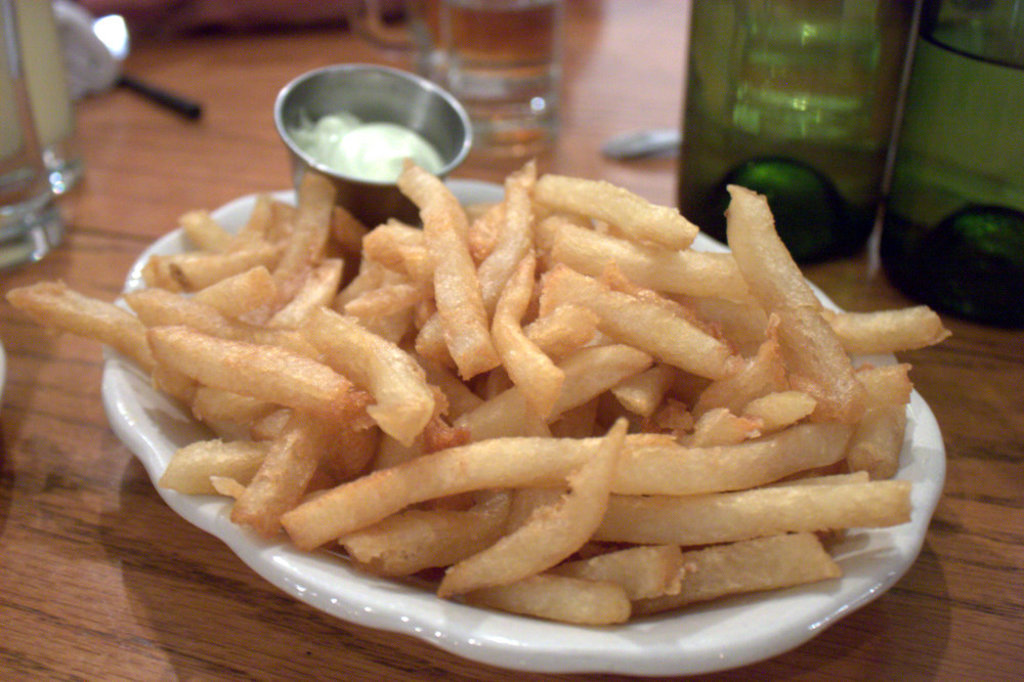French fries: (3, 143, 957, 625)
